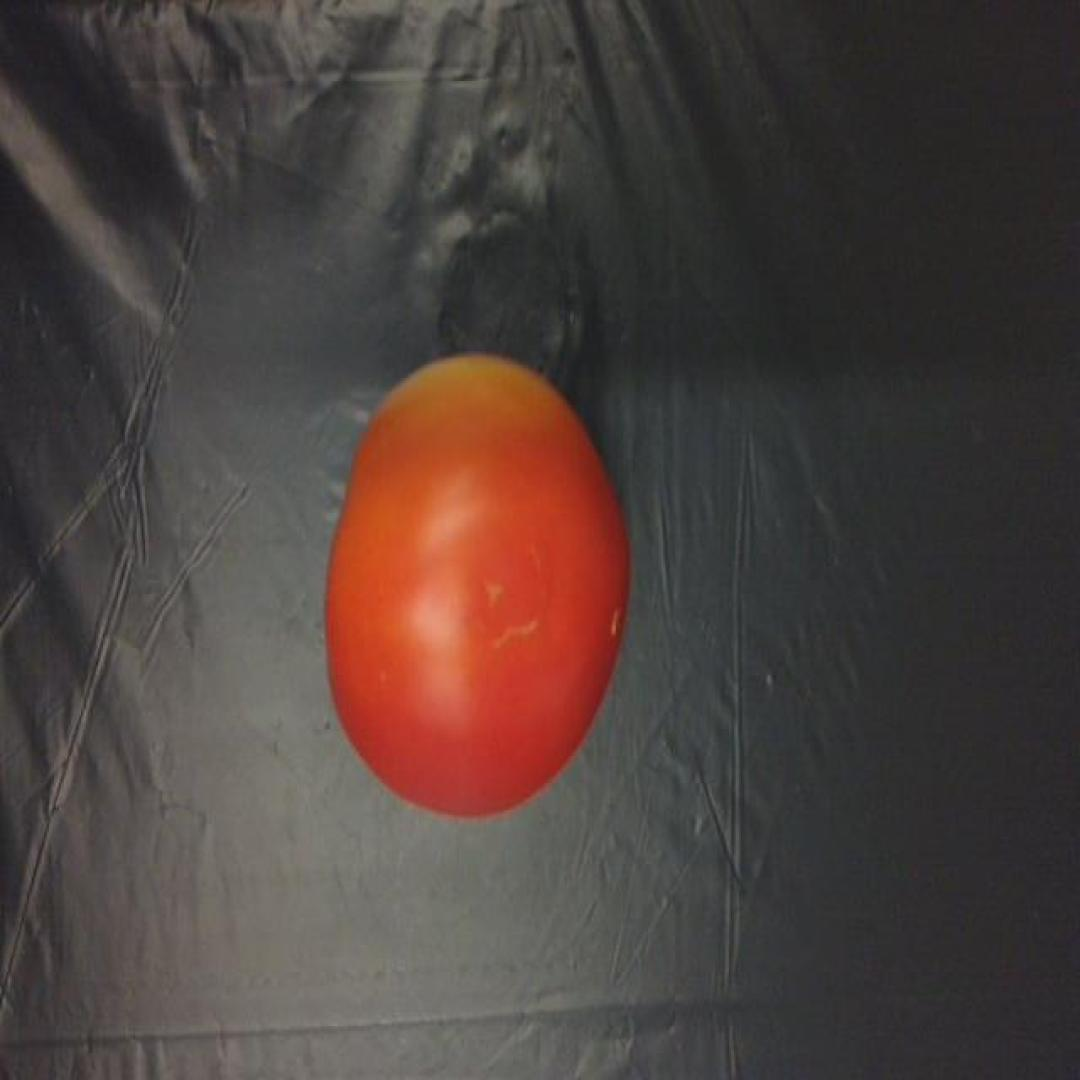matang: (320, 349, 630, 817)
